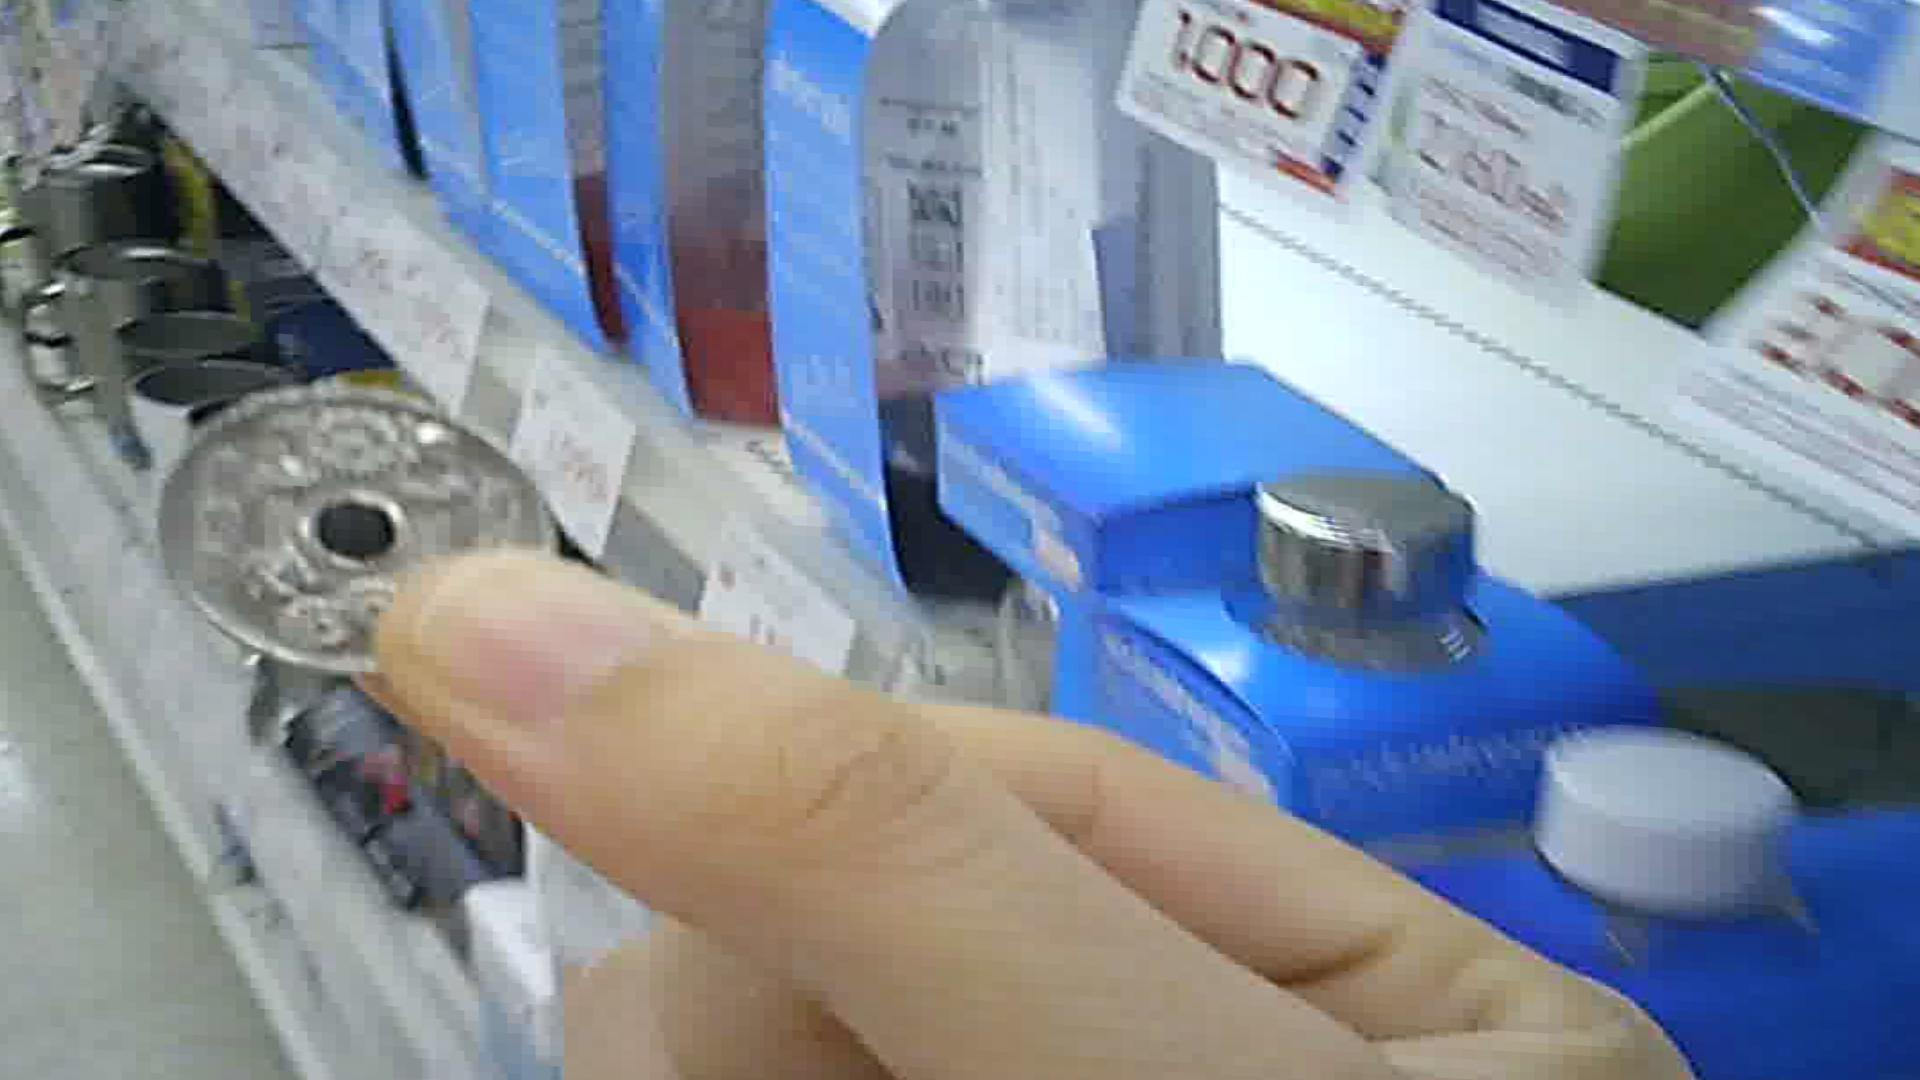50 Yen: (131, 382, 530, 663)
